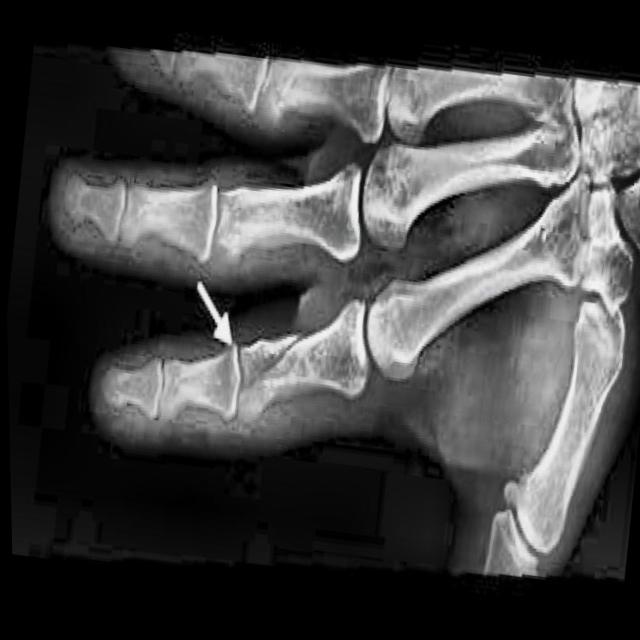fracture: (232, 319, 307, 406)
